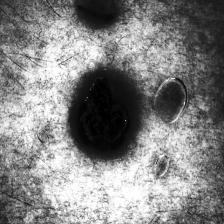Benign Marking or Mole: (67, 69, 136, 153)
